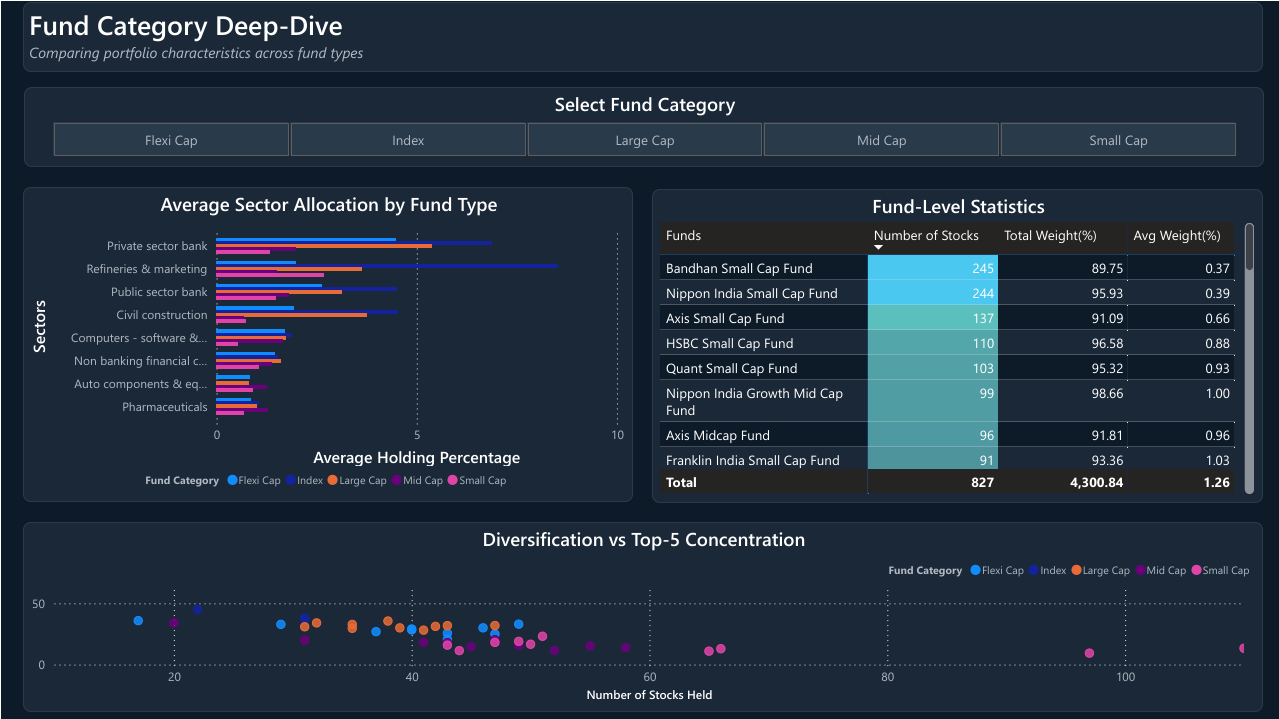

Layout of this report page (visuals, bound fields, positions):
{"tool":"powerbi","page":{"name":"Category Analysis","canvas":[1280,720],"ordinal":3},"visuals":[{"type":"textbox","box":[20.5,0,1240,70],"z":0},{"type":"slicer","title":"Select Fund Category","fields":{"Values":["mutual_fund_holdings_dashboard.fund_category"]},"box":[22,85,1240,80],"z":1000},{"type":"clusteredBarChart","title":"Average Sector Allocation by Fund Type","fields":{"Category":["mutual_fund_holdings_dashboard.sector"],"Y":["Avg(mutual_fund_holdings_dashboard.holding_pct)"],"Series":["mutual_fund_holdings_dashboard.fund_category"]},"box":[20.5,185,610.5,315],"z":2000},{"type":"pivotTable","title":"Fund-Level Statistics","fields":{"Rows":["mutual_fund_holdings_dashboard.fund_name"],"Values":["Count(mutual_fund_holdings_dashboard.stock_name)","Sum(mutual_fund_holdings_dashboard.holding_pct)","Avg(mutual_fund_holdings_dashboard.holding_pct)"]},"box":[650.4,186.6,610.6,314.2],"z":3000},{"type":"scatterChart","title":"Diversification vs Top-5 Concentration","fields":{"X":["mutual_fund_holdings_dashboard.Stock Count"],"Y":["mutual_fund_holdings_dashboard.Top5 Concentration"],"Series":["mutual_fund_holdings_dashboard.fund_category"],"Category":["mutual_fund_holdings_dashboard.fund_name"]},"box":[20.5,520,1240.2,190],"z":4000}]}

Visuals, with their boxes in screenshot pixels (x1, y1, x2, y2), scaled from the page's 1280x720 canvas onto the 1279x719 screenshot:
textbox: <region>20, 0, 1260, 70</region>
"Select Fund Category" slicer: <region>22, 85, 1261, 165</region>
"Average Sector Allocation by Fund Type" clusteredBarChart: <region>20, 185, 631, 499</region>
"Fund-Level Statistics" pivotTable: <region>650, 186, 1260, 500</region>
"Diversification vs Top-5 Concentration" scatterChart: <region>20, 519, 1260, 709</region>
